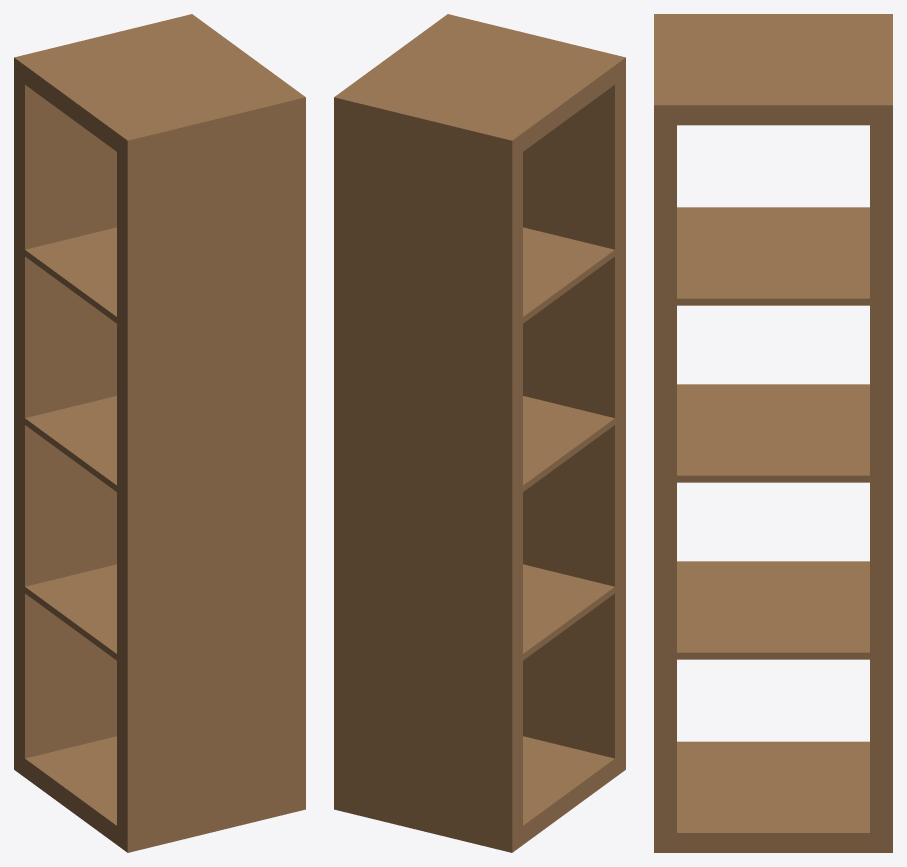
Rendered from rack_3.FBX.
3 renders of one model, left to right at view 1: azimuth 30°, elevation 25°; view 2: azimuth 150°, elevation 25°; view 3: azimuth 270°, elevation 25°, orthographic. The views are drawn at different scales.
Visible parts, largest first — view 1: rack_3; view 2: rack_3; view 3: rack_3.
Boxes of the visible parts, x1,y1,x2,y2 form: rack_3: (14,14,305,852); rack_3: (334,14,625,852); rack_3: (654,14,892,852).
Size of the model in its own units: 0.3901 by 1.49 by 0.4316.
